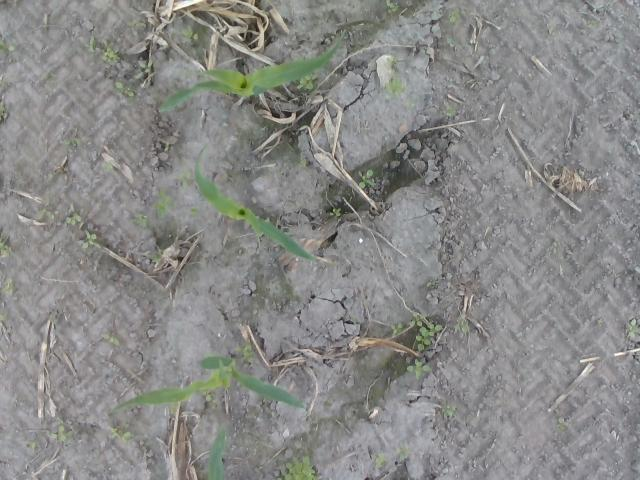Maize: (159, 29, 347, 115), (196, 144, 322, 266), (110, 356, 310, 423), (208, 425, 235, 480)
Weeds: (392, 313, 440, 377), (282, 454, 316, 480), (86, 36, 120, 61), (40, 206, 82, 226), (386, 58, 407, 96), (154, 194, 175, 224), (356, 169, 376, 192), (236, 344, 258, 364), (110, 422, 132, 442), (50, 426, 73, 445), (0, 80, 10, 120), (134, 60, 152, 81), (83, 232, 100, 253), (396, 444, 413, 464), (297, 75, 318, 90), (456, 312, 470, 334), (183, 25, 198, 45), (115, 80, 132, 97), (628, 319, 640, 343), (102, 332, 121, 347), (590, 5, 602, 27), (177, 168, 190, 188), (1, 35, 12, 58), (372, 451, 387, 467), (385, 0, 400, 14), (448, 11, 462, 26), (0, 240, 11, 258), (557, 417, 568, 435), (446, 404, 458, 420), (442, 105, 456, 118), (3, 278, 12, 297), (329, 207, 342, 219), (61, 138, 80, 146), (25, 442, 37, 452), (548, 21, 556, 34), (101, 161, 112, 170), (137, 215, 147, 224), (190, 206, 200, 214)
